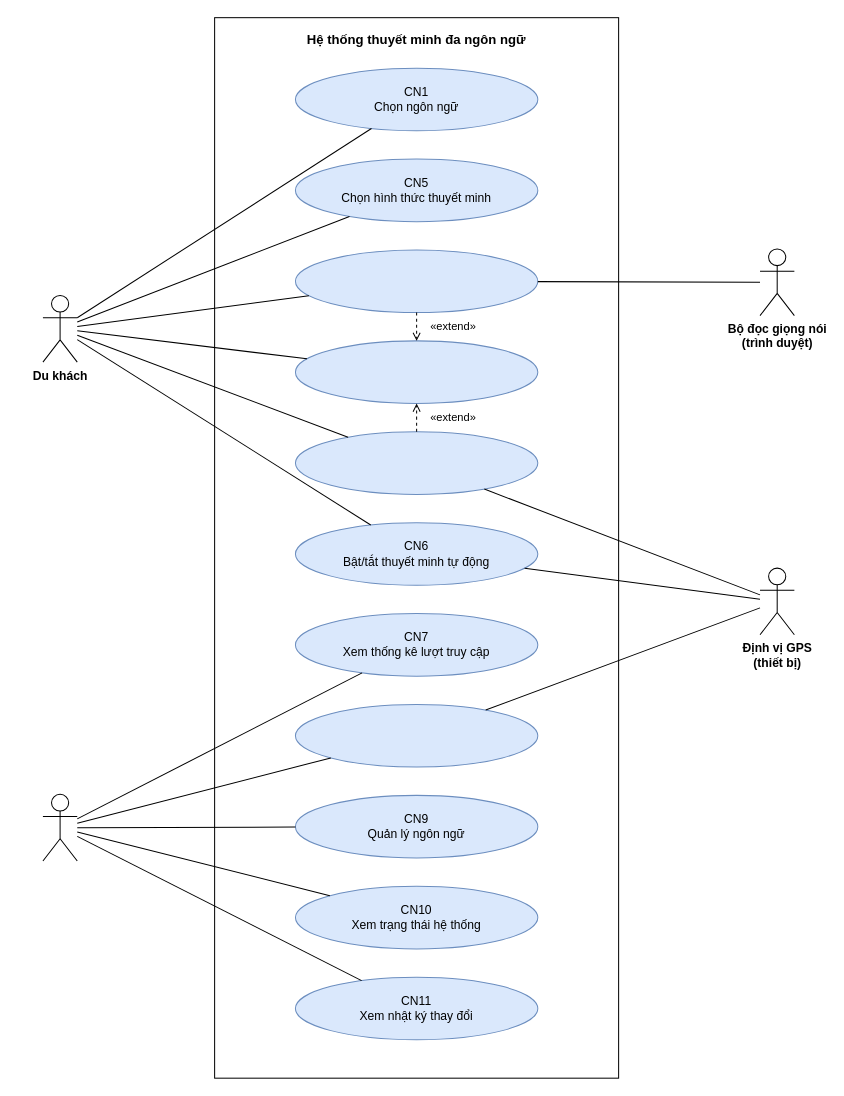
Some shapes in this 844 by 1096 pixel diagram are drawn without their labels. Here are the shapes that lost their labels. From the top down, the centre of each, then its label:
At point (416, 281): "CN4 Nghe thuyết minh".
At point (416, 371): "CN2 Xem thông tin điểm".
At point (416, 462): "CN3 Chọn/bỏ chọn điểm đến".
At point (416, 735): "CN8 Quản lý điểm tham quan".
At point (59, 827): "Người quản lý khu tham quan".
